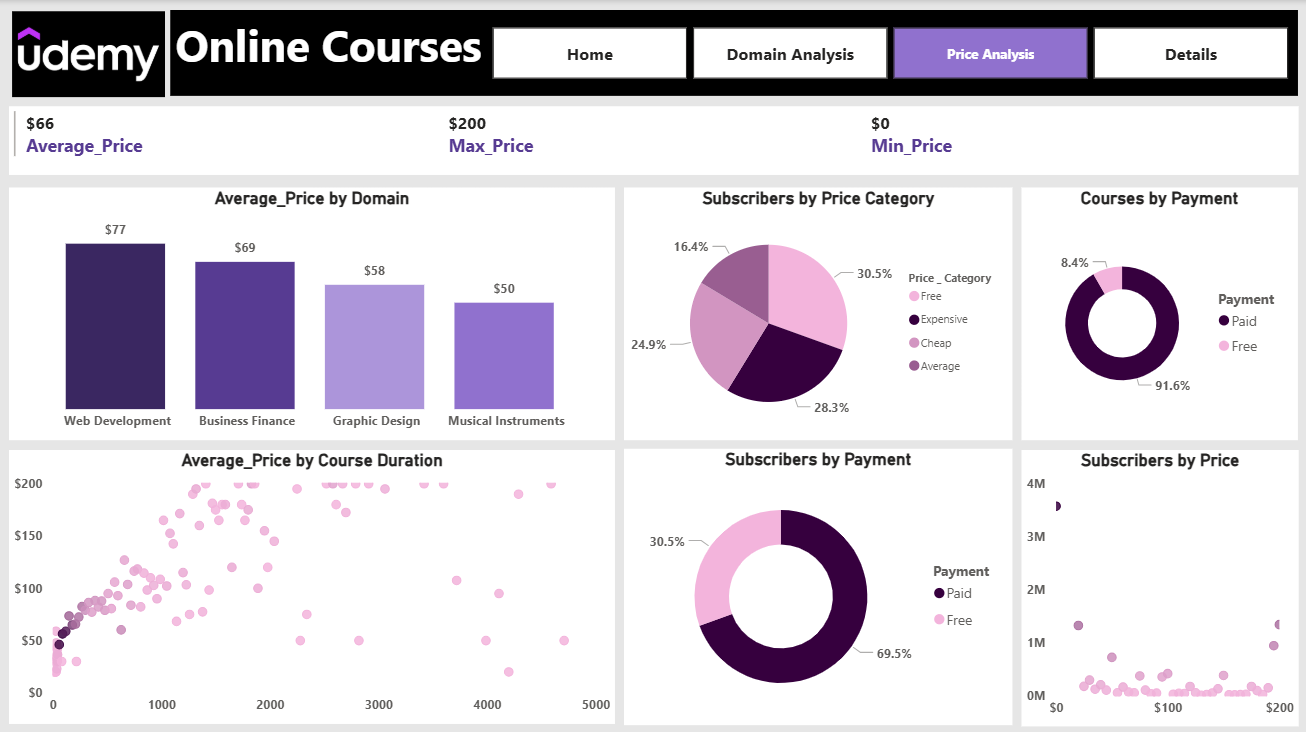

This screenshot's page, from the dashboard's own definition file:
{"tool":"powerbi","page":{"name":"Price Analysis","canvas":[1280,720],"ordinal":2},"visuals":[{"type":"image","box":[0,10.6,175.8,83.8],"z":0},{"type":"textbox","box":[167.6,9.4,1103.2,83.8],"z":1000},{"type":"multiRowCard","fields":{"Values":["udemy.Averge_Price","udemy.Max_Price","udemy.Min_Price"]},"box":[9.3,103.5,1261.6,67.4],"z":2000},{"type":"columnChart","title":"Average_Price by Domain","fields":{"Y":["udemy.Averge_Price"],"Category":["udemy.subject"]},"box":[9.8,183.4,593.1,247],"z":3000},{"type":"pieChart","title":"Subscribers by Price Category","fields":{"Category":["udemy.Price _ Category"],"Y":["udemy.Subscribers"]},"box":[611.4,183.4,380.3,247],"z":4000},{"type":"donutChart","fields":{"Y":["udemy.Subscribers"],"Category":["udemy.Is - Paid"]},"box":[611.4,439,380.3,270.2],"z":5000},{"type":"donutChart","fields":{"Y":["udemy.Courses"],"Category":["udemy.Is - Paid"]},"box":[1000.3,183.4,270.2,247],"z":6000},{"type":"pageNavigator","box":[483,26.9,778.9,50.1],"z":7000},{"type":"scatterChart","title":"Subscribers by Price","fields":{"Y":["udemy.Subscribers"],"X":["udemy.price"]},"box":[1000.3,440.2,271.5,270.2],"z":8000},{"type":"scatterChart","title":" Average_Price by Course Duration","fields":{"Y":["udemy.Averge_Price"],"X":["udemy.Course Duration"]},"box":[9.8,440.2,593.1,267.8],"z":9000}]}

Visuals, with their boxes in screenshot pixels (x1, y1, x2, y2), scaled from the page's 1280x720 canvas onto the 1306x732 screenshot:
image: 0,11,179,96
textbox: 171,10,1297,95
multiRowCard - udemy.Averge_Price x udemy.Max_Price: 9,105,1297,174
"Average_Price by Domain" columnChart: 10,186,615,438
"Subscribers by Price Category" pieChart: 624,186,1012,438
donutChart - udemy.Subscribers x udemy.Is - Paid: 624,446,1012,721
donutChart - udemy.Courses x udemy.Is - Paid: 1021,186,1296,438
pageNavigator: 493,27,1288,78
"Subscribers by Price" scatterChart: 1021,448,1298,722
" Average_Price by Course Duration" scatterChart: 10,448,615,720
